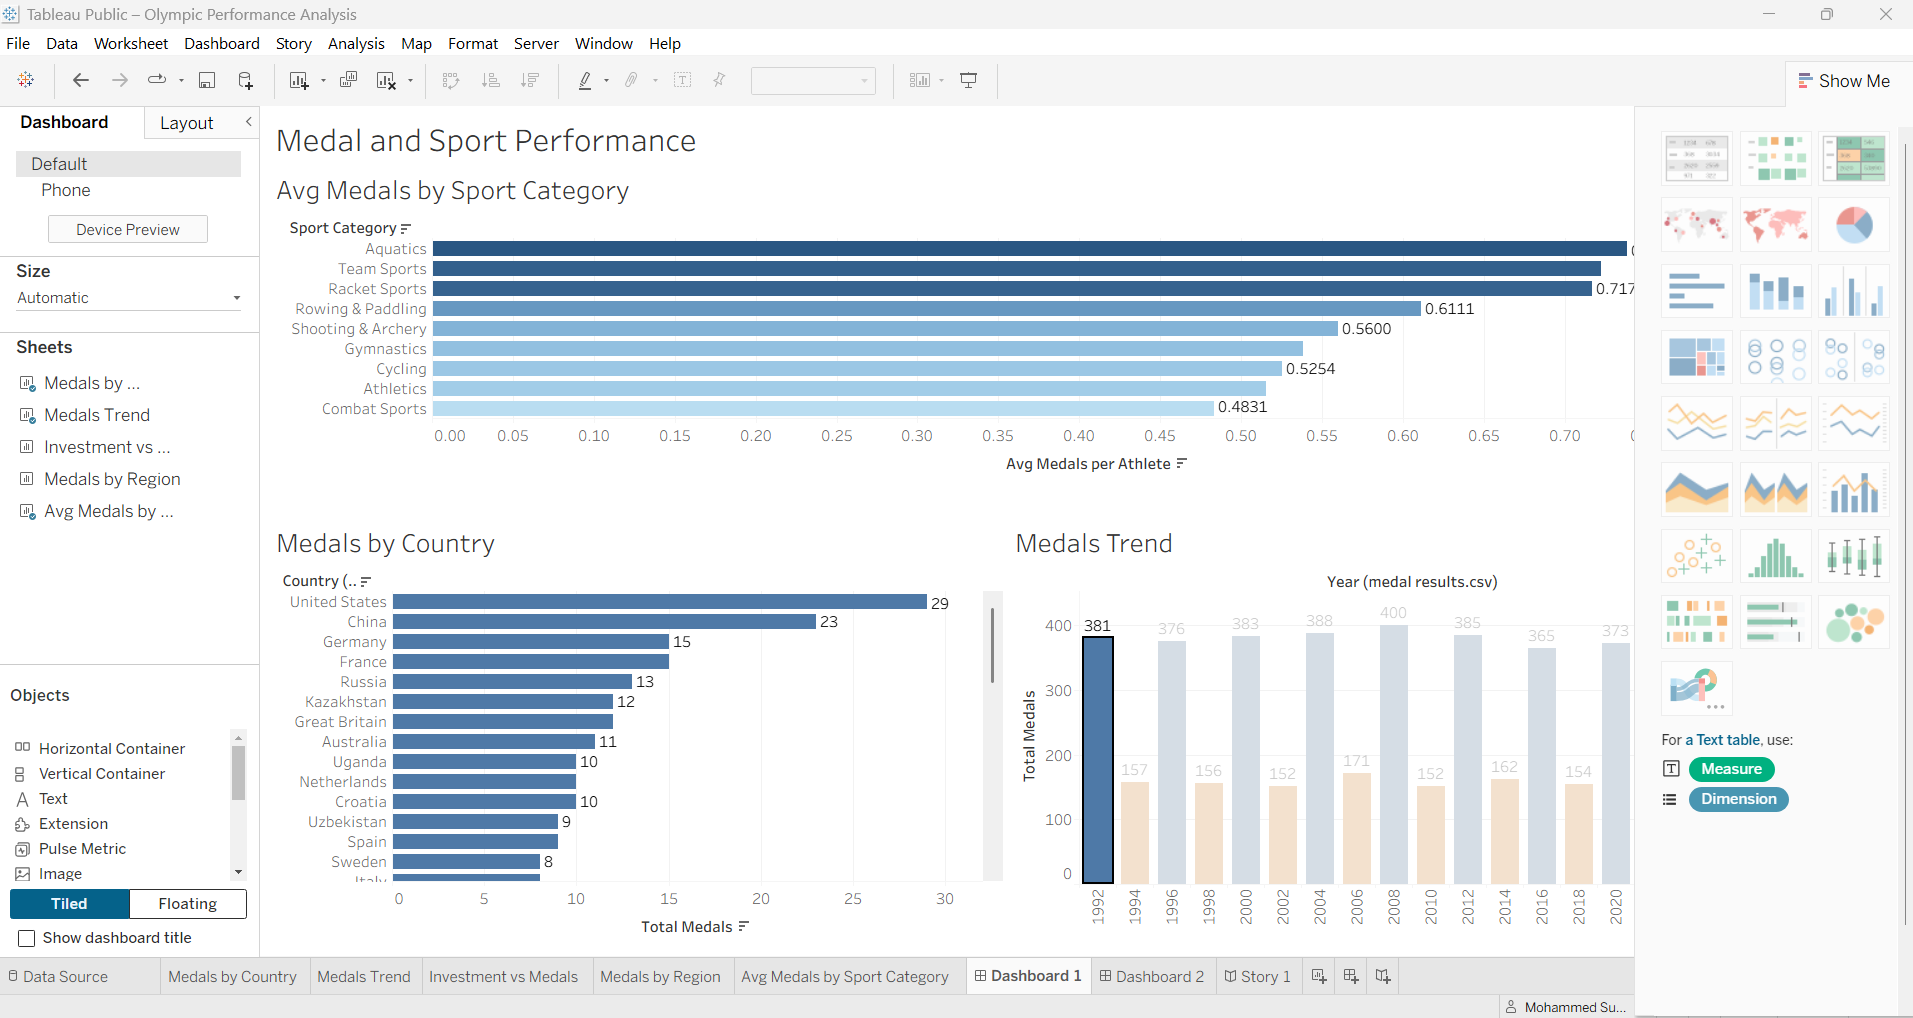

The dashboard page shown, as its layout file describes it:
{"tool":"tableau","page":{"name":"Dashboard 1","canvas":[1000,1000],"units":"permille","ordinal":0},"visuals":[{"type":"title","box":[4.8,9.4,990.3,58.8]},{"type":"worksheet","title":"Avg Medals by Sport Category","mark":"Automatic","rows":["Sport_Category"],"cols":["Calculation_1251579391488000"],"box":[4.8,68.2,893.8,415.3]},{"type":"legend","title":"Avg Medals by Sport Category","param":"[federated.0vy7wdc0vdcy6k16jlxny1f0dmuw].[usr:Calculation_1251579391488000:qk]","box":[898.6,68.2,96.6,85.9]},{"type":"legend","title":"Medals Trend","param":"[federated.0vy7wdc0vdcy6k16jlxny1f0dmuw].[none:Season (medal_results.csv):nk]","box":[898.6,154.1,96.6,84.7]},{"type":"filter","title":"Medals Trend","param":"[federated.0vy7wdc0vdcy6k16jlxny1f0dmuw].[none:Season (medal_results.csv):nk]","box":[898.6,238.8,96.6,123.5]},{"type":"filter","title":"Medals Trend","param":"[federated.0vy7wdc0vdcy6k16jlxny1f0dmuw].[sum:Total_Medals:qk]","box":[898.6,362.3,96.6,85.9]},{"type":"worksheet","title":"Medals by Country","mark":"Automatic","rows":["Country (medal_results.csv)"],"cols":["Total_Medals"],"box":[4.8,483.5,446,507.1]},{"type":"worksheet","title":"Medals Trend","mark":"Automatic","rows":["Total_Medals"],"cols":["Year (medal_results.csv)"],"box":[450.8,483.5,447.8,507.1]}]}

Visuals, with their boxes on the dashboard's canvas, which has no fixed pixel size, in thousandths of its width and height (x1, y1, x2, y2). These are canvas units, not pixel positions in the 1913x1018 screenshot, which may show the page scaled, cropped or inside an application window:
title: left=5, top=9, right=995, bottom=68
"Avg Medals by Sport Category" worksheet: left=5, top=68, right=899, bottom=484
"Avg Medals by Sport Category" legend: left=899, top=68, right=995, bottom=154
"Medals Trend" legend: left=899, top=154, right=995, bottom=239
"Medals Trend" filter: left=899, top=239, right=995, bottom=362
"Medals Trend" filter: left=899, top=362, right=995, bottom=448
"Medals by Country" worksheet: left=5, top=484, right=451, bottom=991
"Medals Trend" worksheet: left=451, top=484, right=899, bottom=991
